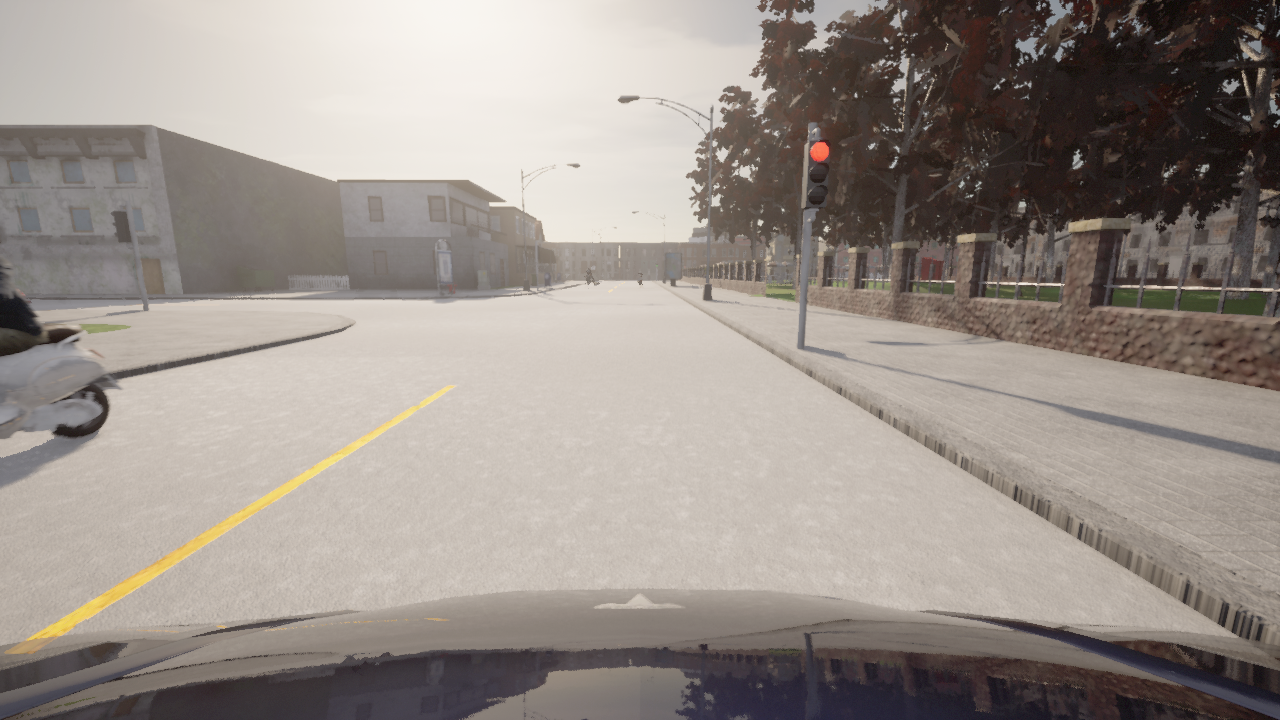cyclist: (0, 588, 1279, 719), (0, 326, 122, 440), (584, 268, 598, 285), (637, 276, 642, 287), (587, 280, 589, 286)
pedestrian: (704, 265, 706, 282)
